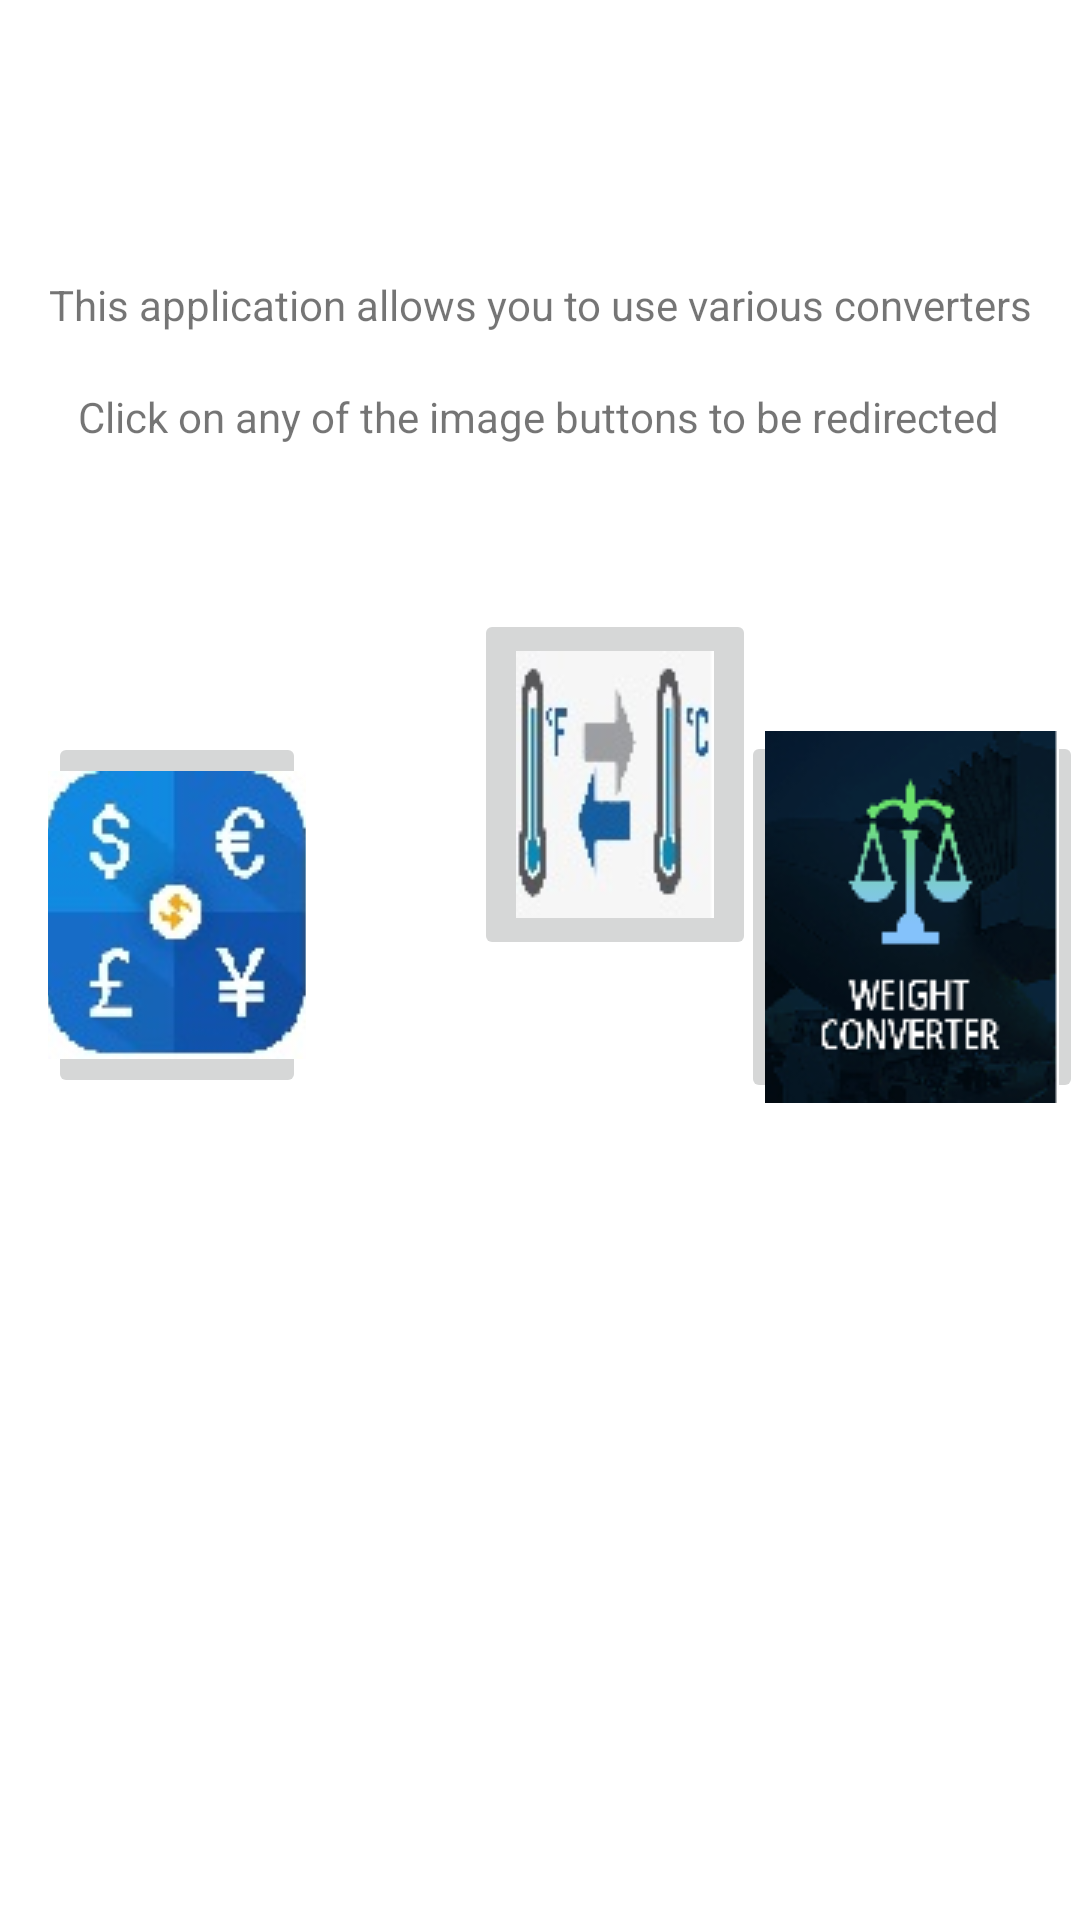

Where icons sit on this 1080px x 1920px app screen, as (x1, y1, x2, y2):
curr con: (48, 750, 306, 1080)
